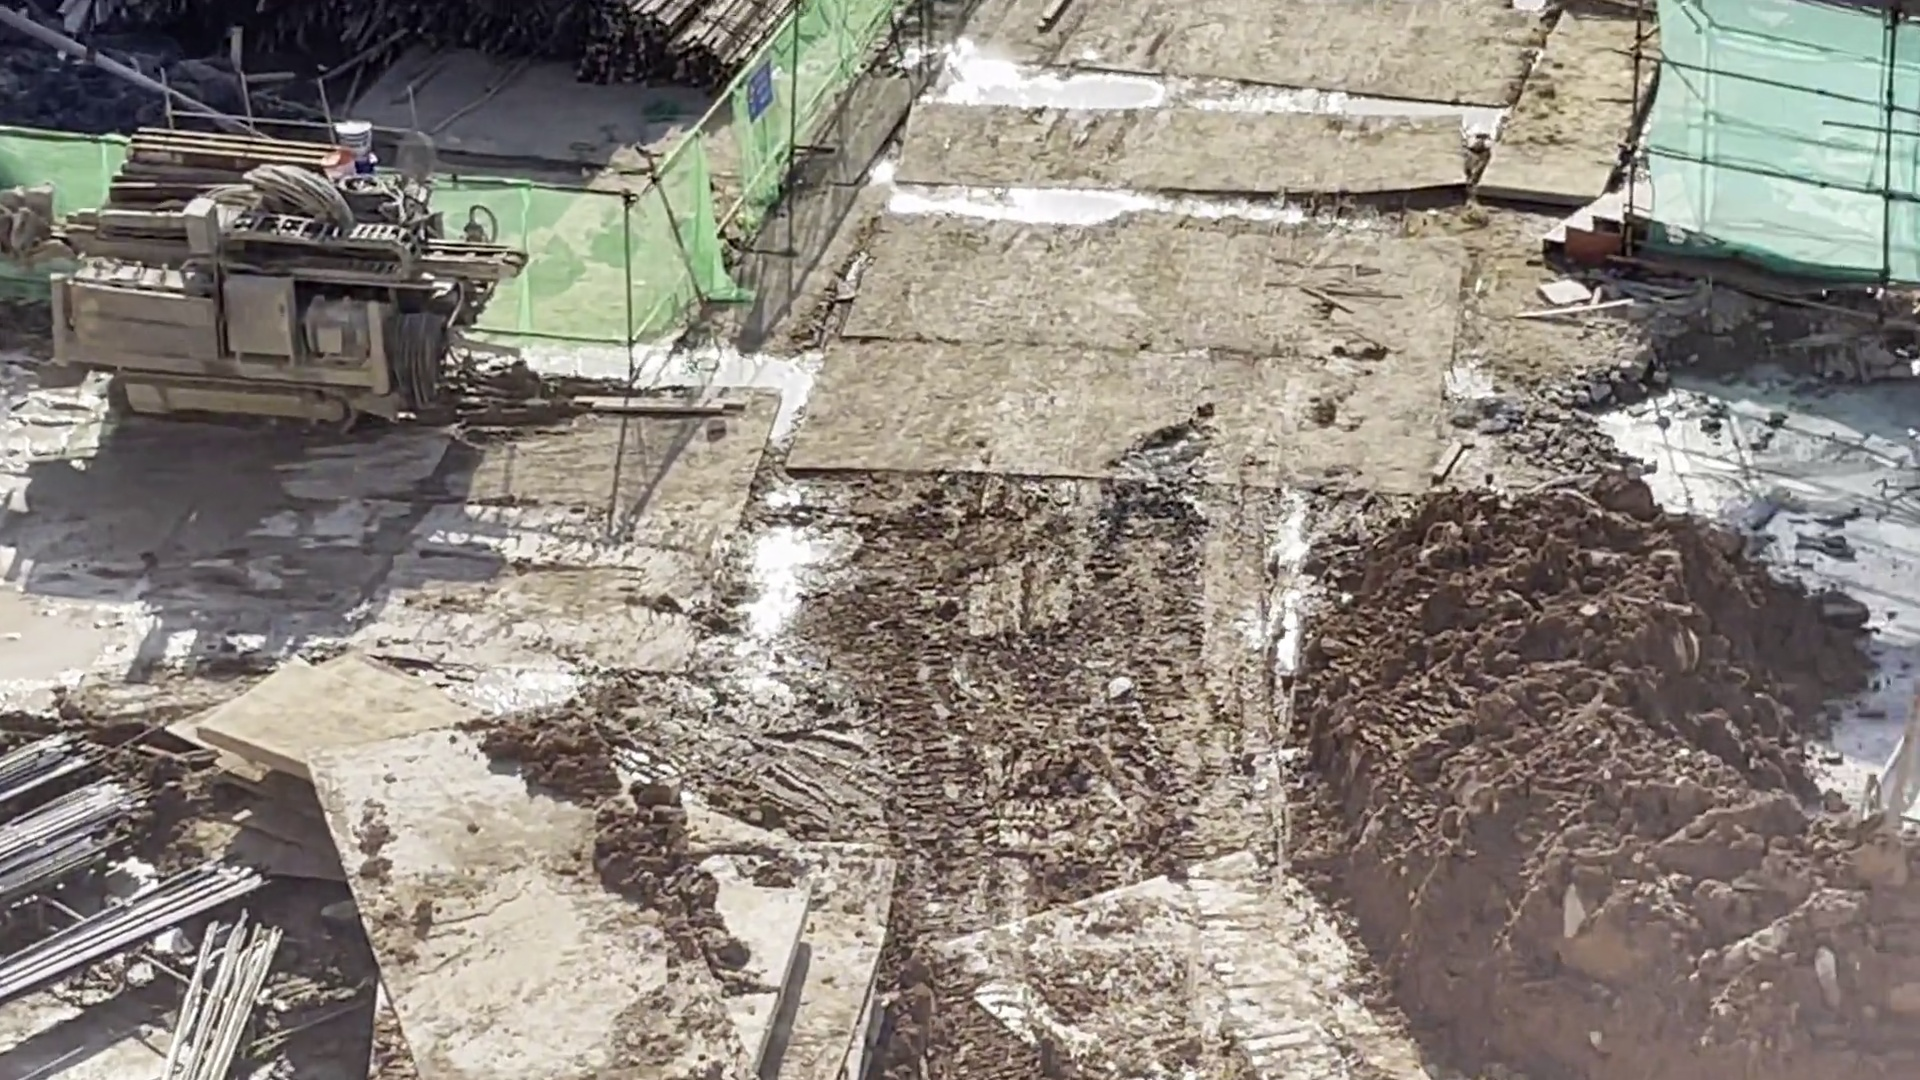rebar: (1, 857, 262, 1011), (5, 727, 135, 901), (156, 911, 287, 1080)
wood: (564, 5, 795, 94)
